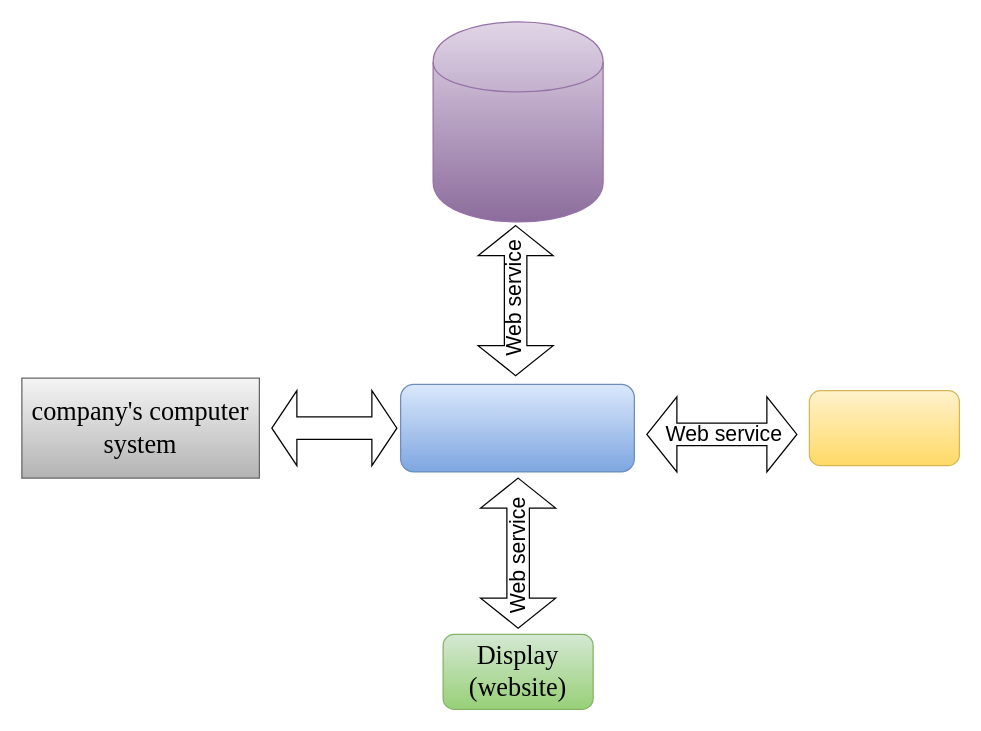
The diagram is 981 pixels wide and 731 high, and some of its shapes have lost their labels. Each missing label, with the box of its shape:
Alert System: (808, 389, 959, 466)
DATA BASE: (432, 21, 603, 222)
Server: (399, 383, 634, 472)
